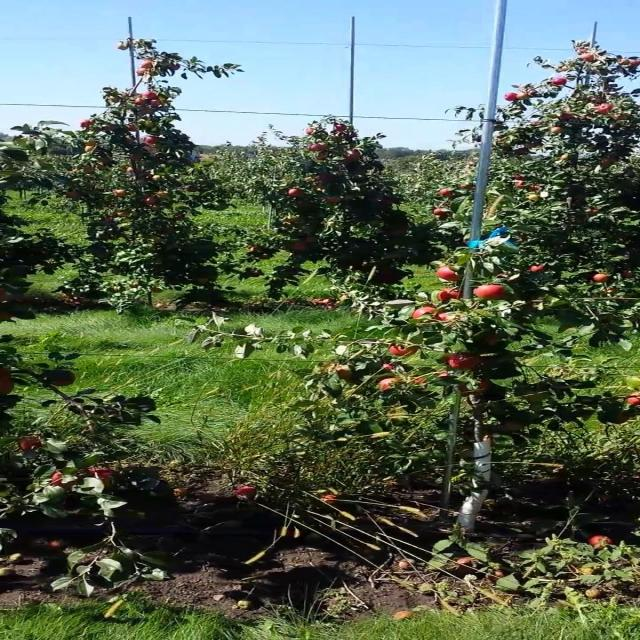apple: (447, 352, 480, 370), (473, 284, 507, 300), (458, 379, 491, 395), (373, 268, 404, 284), (49, 471, 78, 488), (47, 370, 76, 386), (436, 265, 460, 282), (333, 364, 356, 381), (87, 466, 113, 481), (18, 435, 42, 451), (233, 485, 258, 499), (436, 288, 462, 301), (411, 306, 438, 318), (389, 345, 418, 356), (500, 419, 524, 432), (480, 332, 502, 346), (378, 378, 400, 391), (611, 411, 631, 424), (624, 391, 640, 406), (591, 272, 611, 284), (433, 312, 451, 321), (527, 264, 547, 272), (620, 269, 636, 279), (382, 362, 396, 371), (411, 378, 427, 385), (438, 371, 451, 378)
